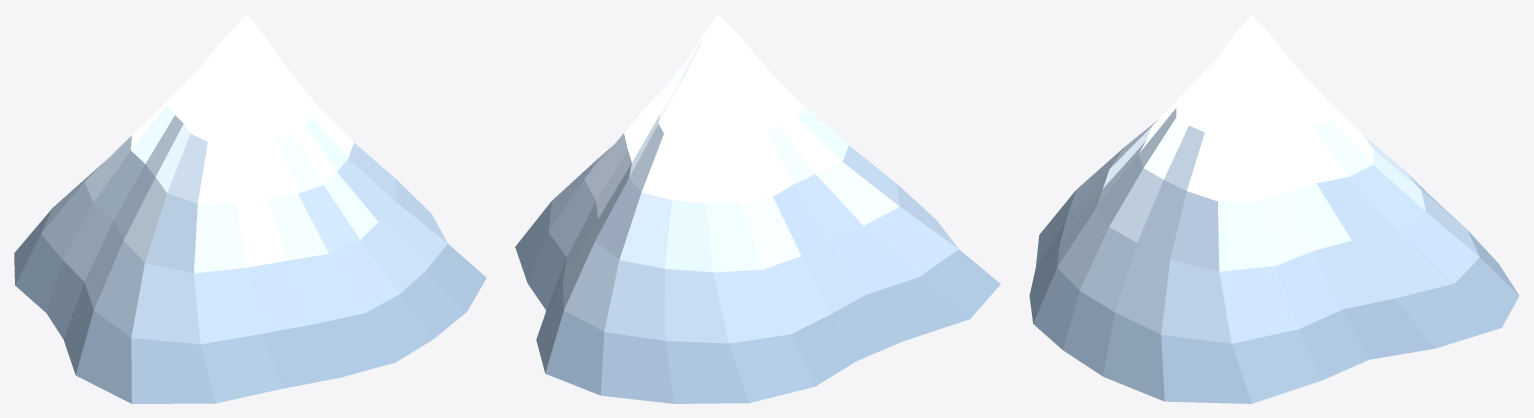
File: snow-peak.glb
The picture shows the model from 3 angles, left to right: view 1: azimuth 30°, elevation 25°; view 2: azimuth 150°, elevation 25°; view 3: azimuth 270°, elevation 25°; orthographic projection. The views are drawn at different scales.
Visible parts, largest first — view 1: snow-peak; view 2: snow-peak; view 3: snow-peak.
Boxes of the visible parts, bbox=[...] form: snow-peak: bbox=[14, 14, 486, 403]; snow-peak: bbox=[515, 14, 1000, 403]; snow-peak: bbox=[1029, 14, 1519, 403].
Bounding box in the file's own units: 400 × 260 × 400.
